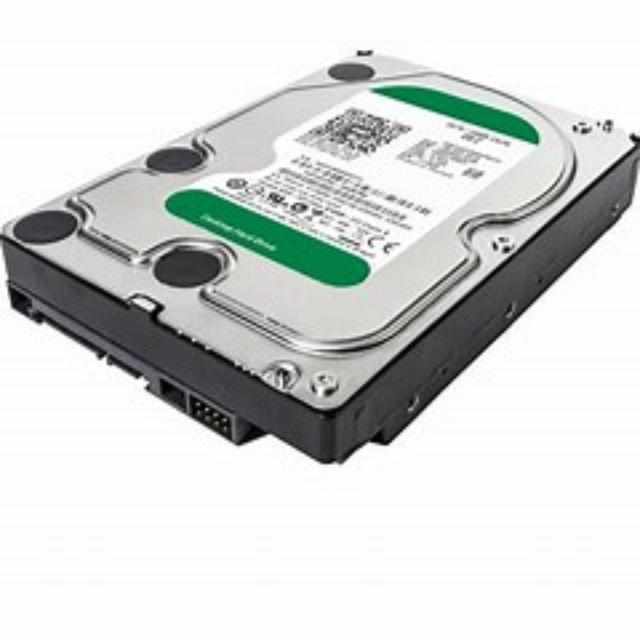HDD: (0, 51, 640, 467)
